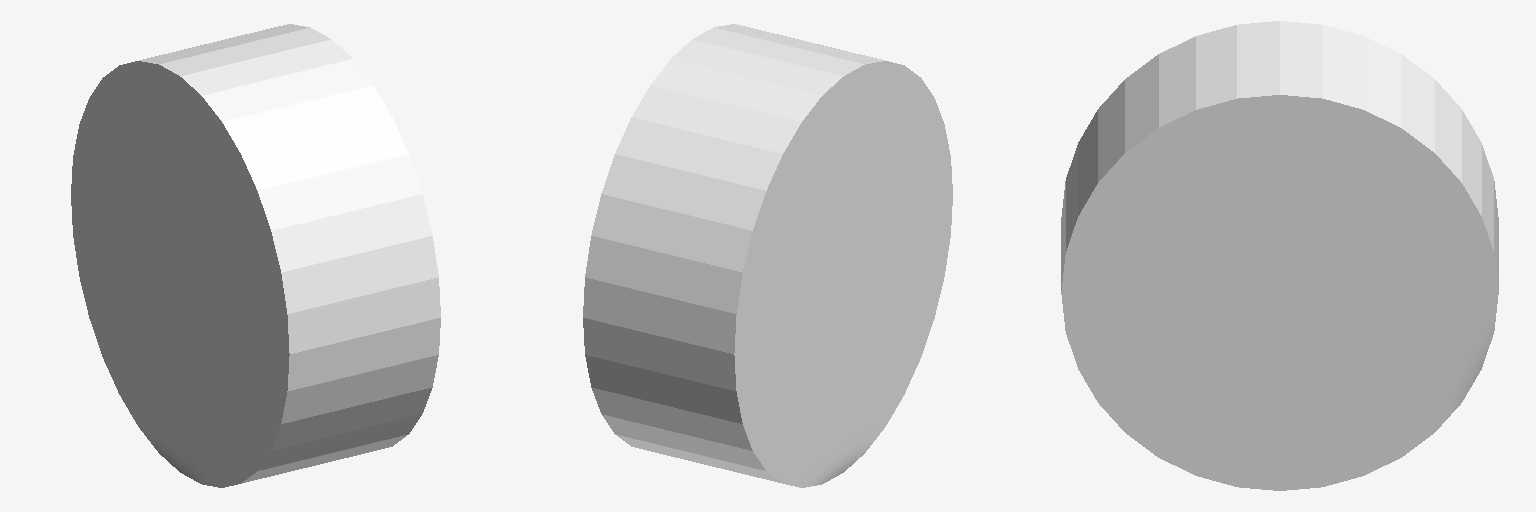
3 views of the same model, side by side, from view 1: azimuth 30°, elevation 25°; view 2: azimuth 150°, elevation 25°; view 3: azimuth 270°, elevation 25° (orthographic).
Visible parts, largest first — view 1: Tire; view 2: Tire; view 3: Tire.
Part boxes in pixels (x1,y1,x2,y2): Tire: (71, 24, 440, 487); Tire: (583, 24, 952, 487); Tire: (1061, 21, 1498, 490).
Bounding box in the file's own units: 0.8 × 2 × 2.
Materials: 1 (1 with a texture image).